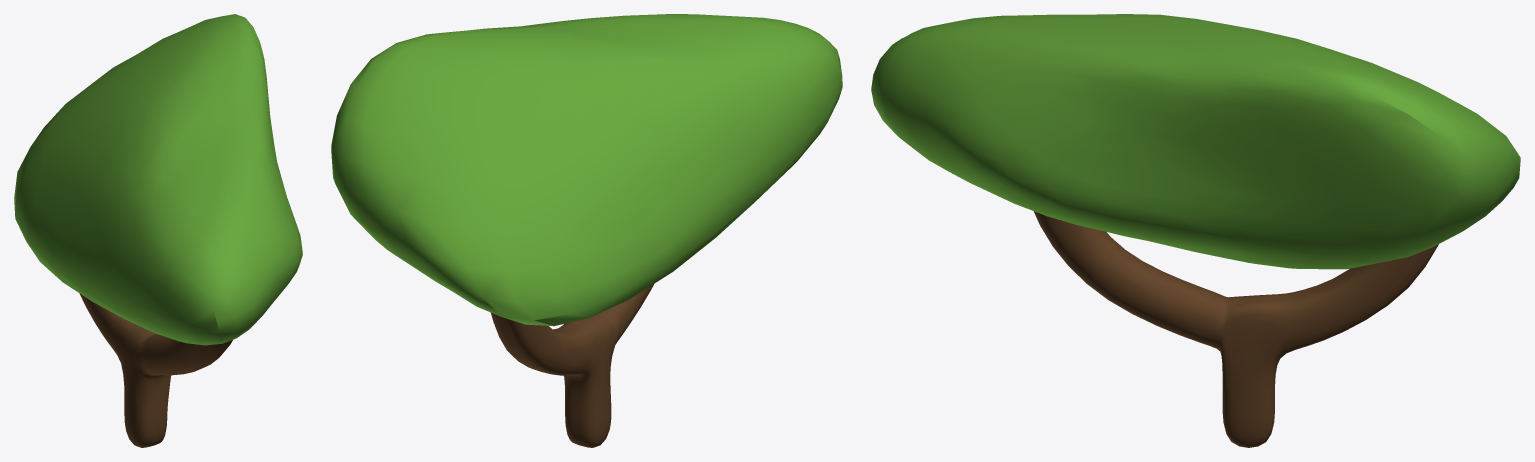
The model's file is Tree 8.fbx.
3 renders of one model, left to right at view 1: azimuth 30°, elevation 25°; view 2: azimuth 150°, elevation 25°; view 3: azimuth 270°, elevation 25°, orthographic. The views are drawn at different scales.
Visible parts, largest first — view 1: Sphere, Cube; view 2: Sphere, Cube; view 3: Sphere, Cube.
Part boxes in pixels (left/top/right/bottom): Sphere: left=14, top=14, right=302, bottom=345; Cube: left=79, top=293, right=232, bottom=447; Sphere: left=331, top=14, right=842, bottom=326; Cube: left=491, top=284, right=653, bottom=447; Sphere: left=871, top=14, right=1520, bottom=269; Cube: left=1033, top=211, right=1438, bottom=447.
Size of the model in its own units: 449 by 598 by 781.
